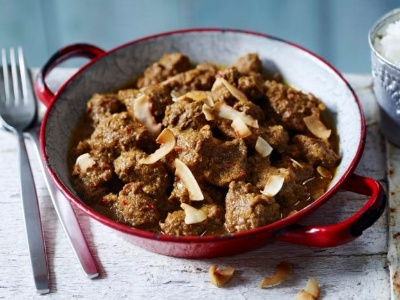rendang: (95, 71, 315, 216)
